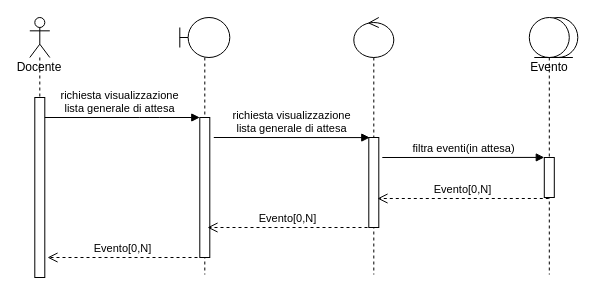
The diagram is 595 pixels wide and 295 high, and some of its shapes have lost their labels. Each missing label, with the centre of its shape:
Hendler_Visualizza-prenotazioni-effettuate: pixel 373 145
UI_Profilo: pixel 204 145
